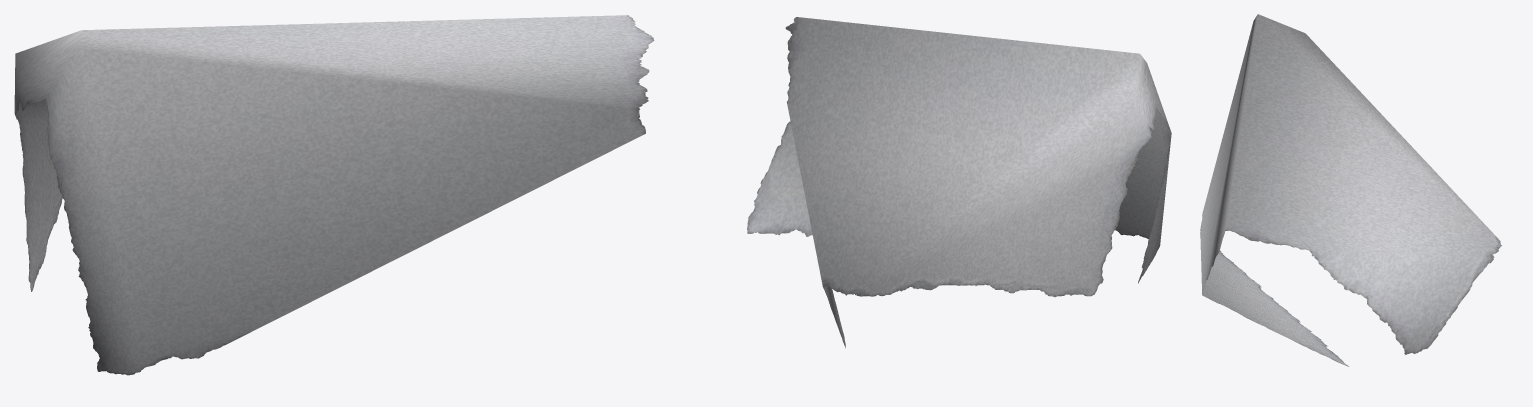
The model's file is Projectile.FBX.
3 renders of one model, left to right at view 1: azimuth 30°, elevation 25°; view 2: azimuth 150°, elevation 25°; view 3: azimuth 270°, elevation 25°, orthographic. The views are drawn at different scales.
Parts seen in each view (by area): view 1: Plane002; view 2: Plane002; view 3: Plane002.
Part boxes in pixels (x1,y1,x2,y2): Plane002: [14, 15, 654, 375]; Plane002: [747, 17, 1171, 348]; Plane002: [1200, 14, 1501, 366].
Bounding box in the file's own units: 26.89 × 19.86 × 19.61.
Materials: 1 (1 with a texture image).
